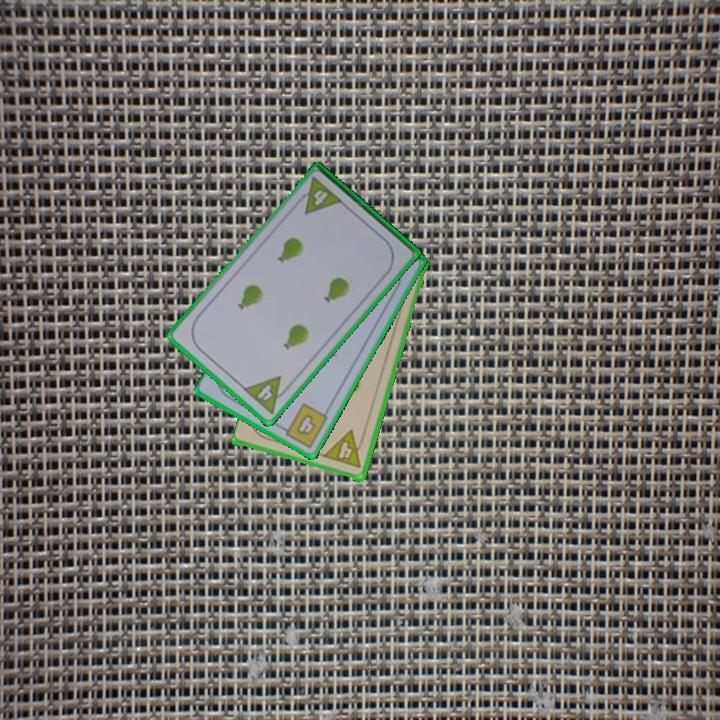4b: (276, 400, 331, 451)
4p: (239, 372, 294, 417), (292, 174, 345, 217), (321, 427, 368, 471)
